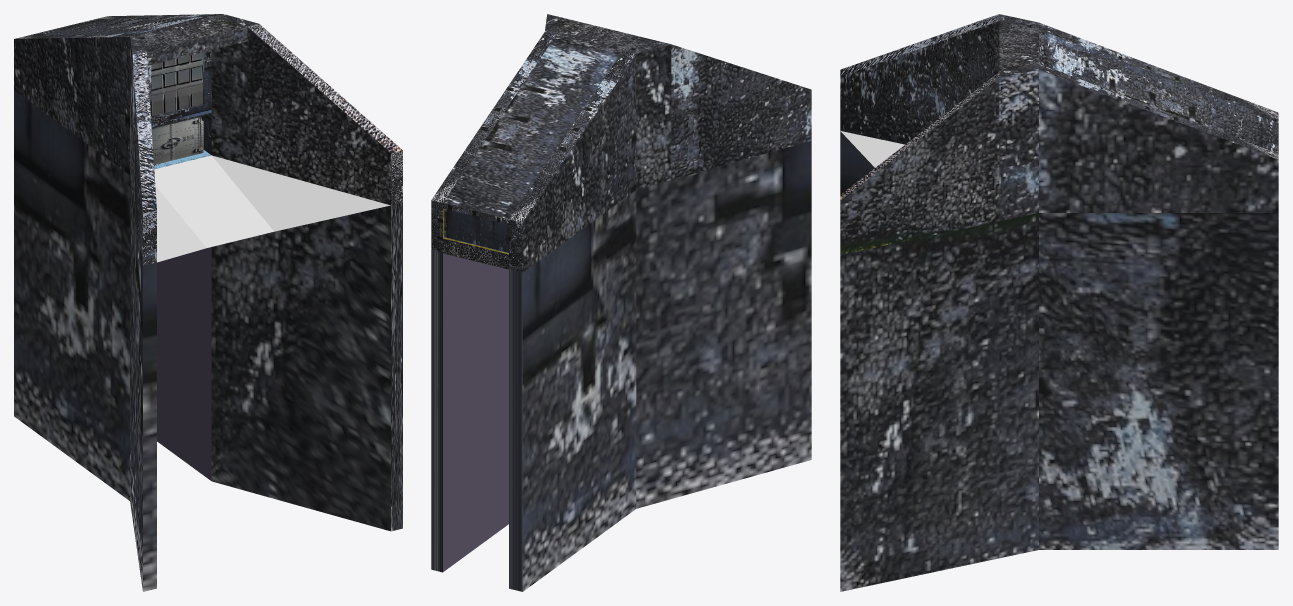
File: bunker.fbx
3 views of the same model, side by side, from view 1: azimuth 30°, elevation 25°; view 2: azimuth 150°, elevation 25°; view 3: azimuth 270°, elevation 25° (orthographic). The views are drawn at different scales.
Visible parts, largest first — view 1: Cube.001; view 2: Cube.001; view 3: Cube.001.
Part boxes in pixels (<box>): Cube.001: <box>14,14,402,591</box>; Cube.001: <box>431,14,811,591</box>; Cube.001: <box>840,14,1278,591</box>.
Size of the model in its own units: 1562 by 2667 by 2207.
3 materials, 2 textured.
